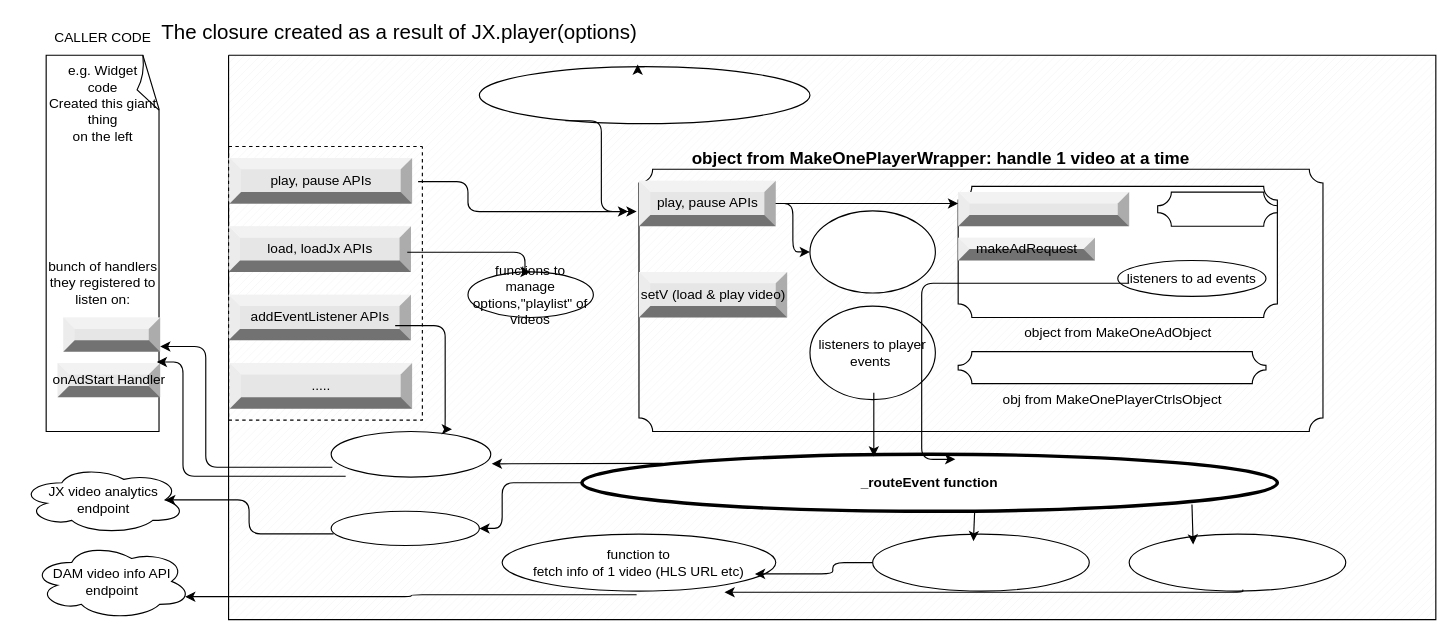
The diagram is 1456 pixels wide and 640 high, and some of its shapes have lost their labels. Each missing label, with the centre of its shape:
function to do_fireTrackers: [404,527]
function to handle ending of one video: [1237,562]
function to handle failure of one video: [980,562]
function to manage any registered event handlers: [410,453]
intersection/Visibility Observer stuff: [644,95]
misc. functions: [872,251]
object from MakeOneAdCtrlsObject: [1217,208]
onErrorHandler: [111,334]
playAd, pauseAd APIs: [1043,209]
